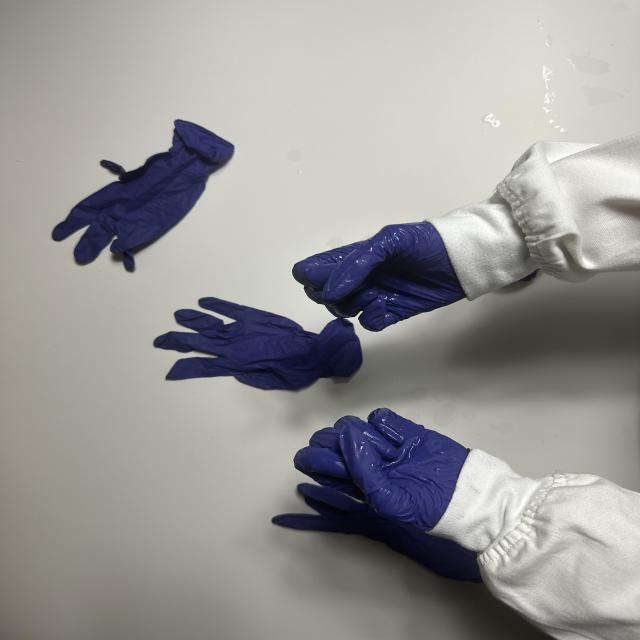gloves_contaminated: (294, 408, 469, 530), (293, 222, 465, 331)
